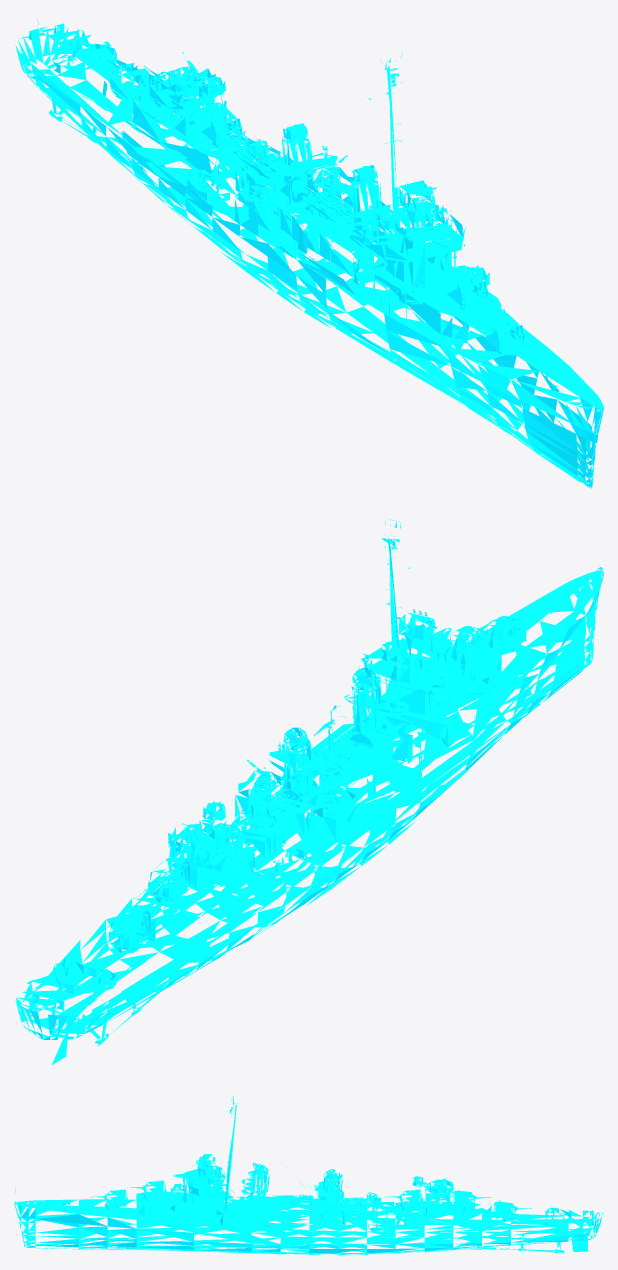
Rendered from Black_Black.glb.
3 renders of one model, top to bottom at view 1: azimuth 30°, elevation 25°; view 2: azimuth 150°, elevation 25°; view 3: azimuth 270°, elevation 25°, orthographic. The views are drawn at different scales.
Bounding box in the file's own units: 0.8057 × 2.22 × 7.68.
